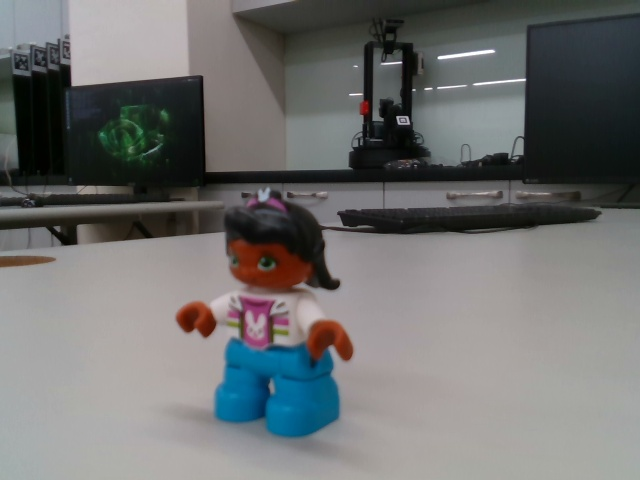people: (175, 187, 356, 436)
